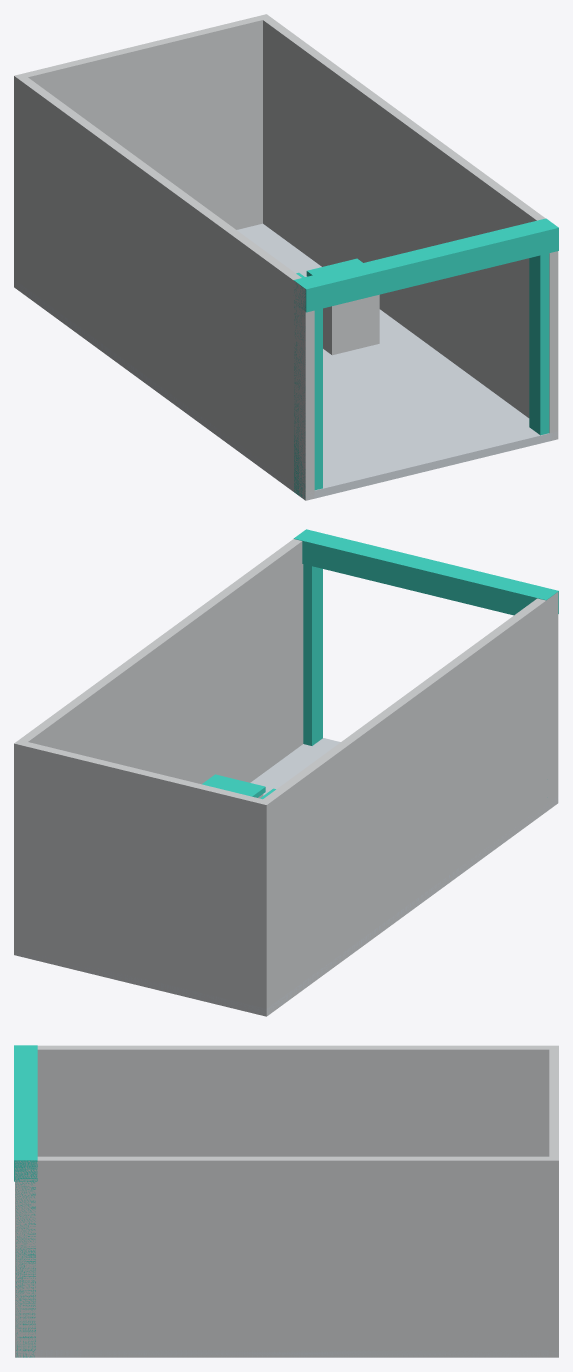
The picture shows the model from 3 angles, top to bottom: view 1: azimuth 30°, elevation 25°; view 2: azimuth 150°, elevation 25°; view 3: azimuth 270°, elevation 25°; orthographic projection. The views are drawn at different scales.
Parts seen in each view (by area): view 1: Exhibition Booth Concept; view 2: Exhibition Booth Concept; view 3: Exhibition Booth Concept.
Part boxes in pixels (bbox=[...]): Exhibition Booth Concept: bbox=[14, 14, 558, 500]; Exhibition Booth Concept: bbox=[14, 529, 558, 1016]; Exhibition Booth Concept: bbox=[14, 1045, 558, 1357].
Bounding box in the file's own units: 4 × 3.2 × 8.01.
